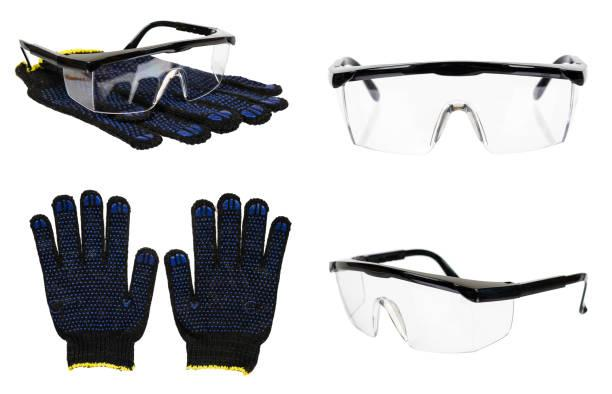luva: (20, 184, 164, 378), (166, 189, 295, 374)
oculos de protecao: (327, 234, 592, 356), (319, 46, 588, 152), (3, 27, 239, 98)
